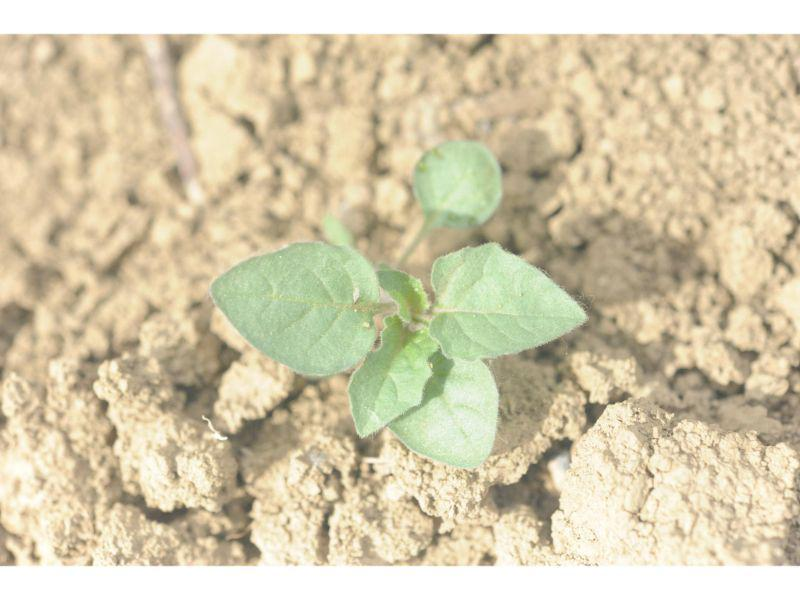nightshade: (210, 141, 587, 471)
